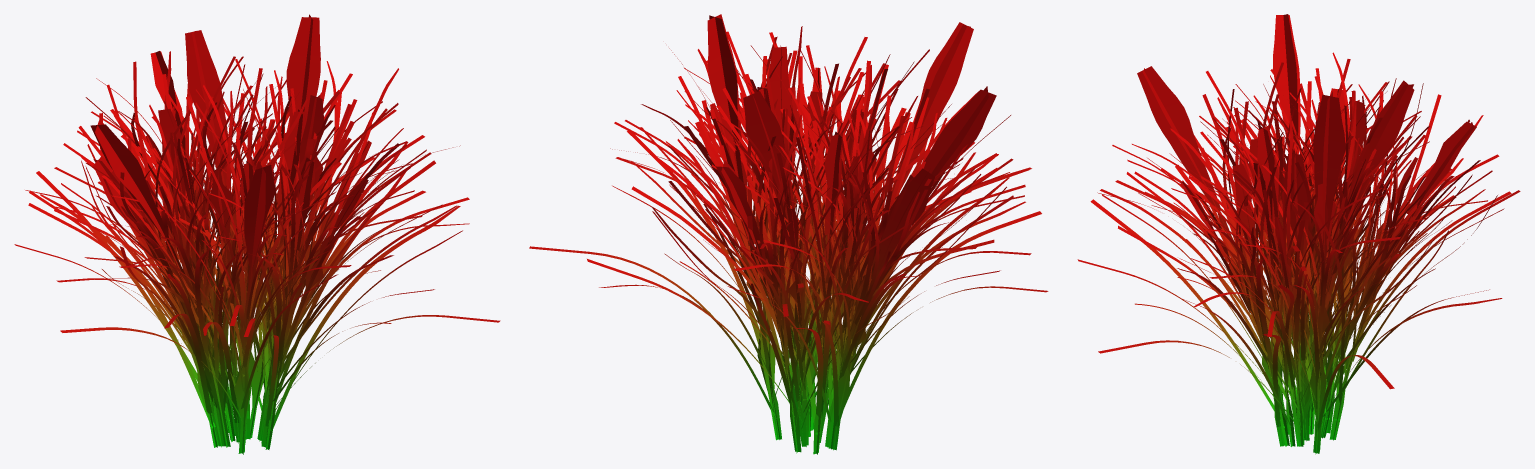
The model's file is slfpffjr_Var4_LOD0.fbx.
3 views of the same model, side by side, from view 1: azimuth 30°, elevation 25°; view 2: azimuth 150°, elevation 25°; view 3: azimuth 270°, elevation 25° (orthographic). The views are drawn at different scales.
Visible parts, largest first — view 1: _c9ff_Var4_LOD0; view 2: _c9ff_Var4_LOD0; view 3: _c9ff_Var4_LOD0.
Boxes of the visible parts, <box> form: _c9ff_Var4_LOD0: <box>14,14,500,454</box>; _c9ff_Var4_LOD0: <box>529,14,1048,454</box>; _c9ff_Var4_LOD0: <box>1077,14,1520,454</box>.
Size of the model in its own units: 79.63 by 70.3 by 73.58.
